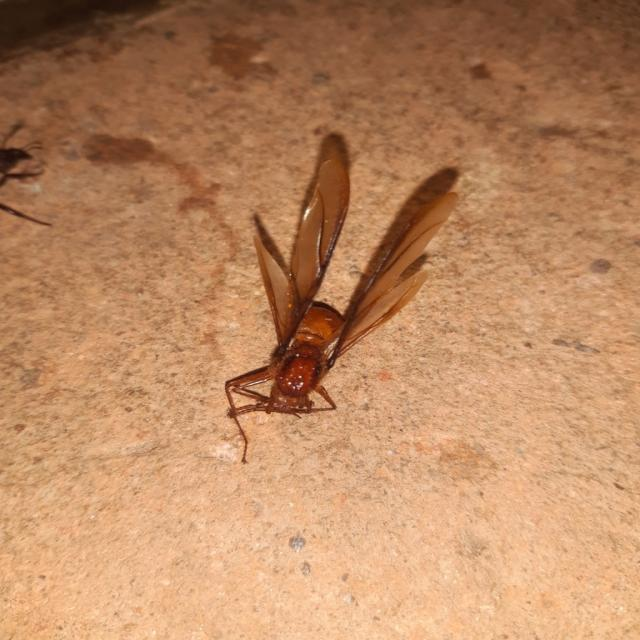Dead-Male-Alate: (225, 133, 459, 464)
